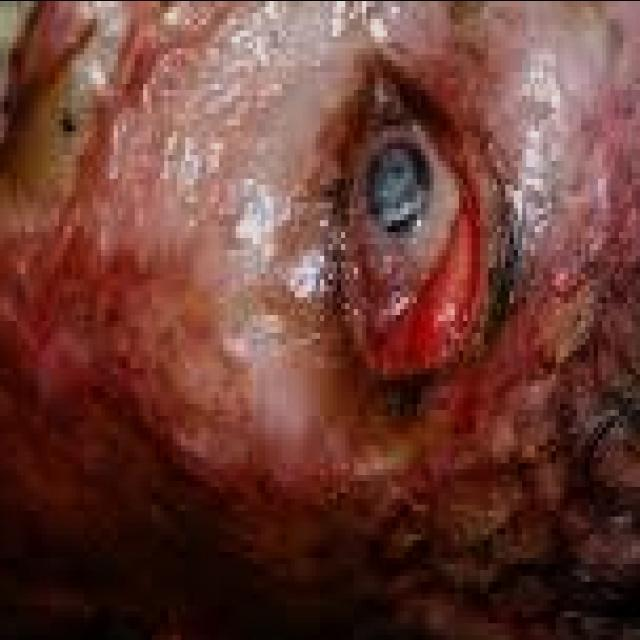burn: (1, 0, 639, 639)
